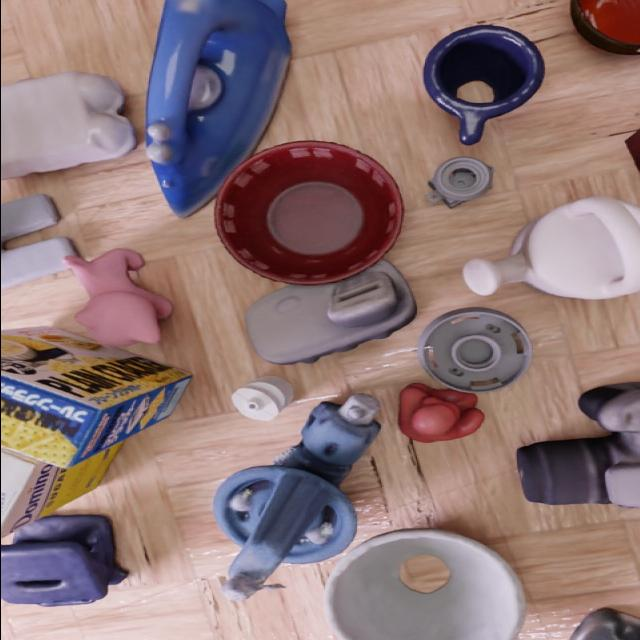Other Objects: (212, 395, 379, 600), (213, 142, 401, 285), (0, 329, 187, 467), (324, 530, 524, 640), (461, 197, 639, 300), (245, 261, 415, 365), (423, 26, 543, 145), (63, 249, 171, 347), (417, 308, 529, 393), (397, 384, 483, 443), (427, 158, 489, 208)
